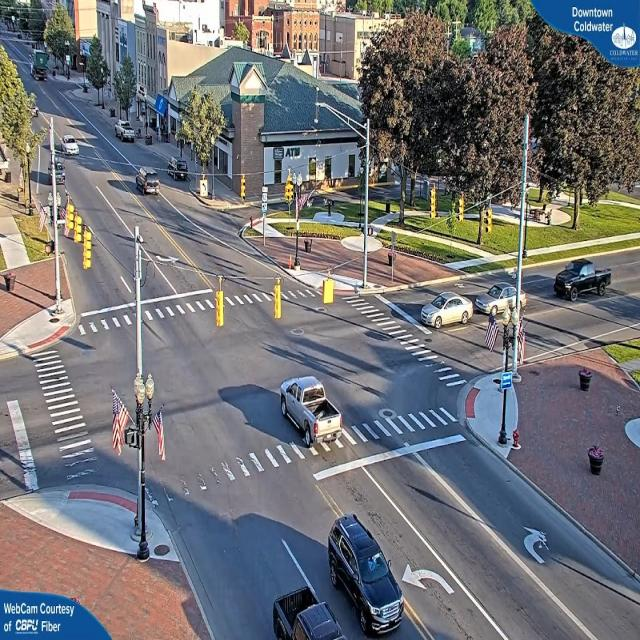car: (327, 516, 408, 634), (280, 374, 340, 452), (552, 260, 610, 299), (477, 281, 525, 316), (422, 296, 471, 329), (135, 169, 159, 195), (116, 123, 136, 143), (60, 135, 78, 155)
